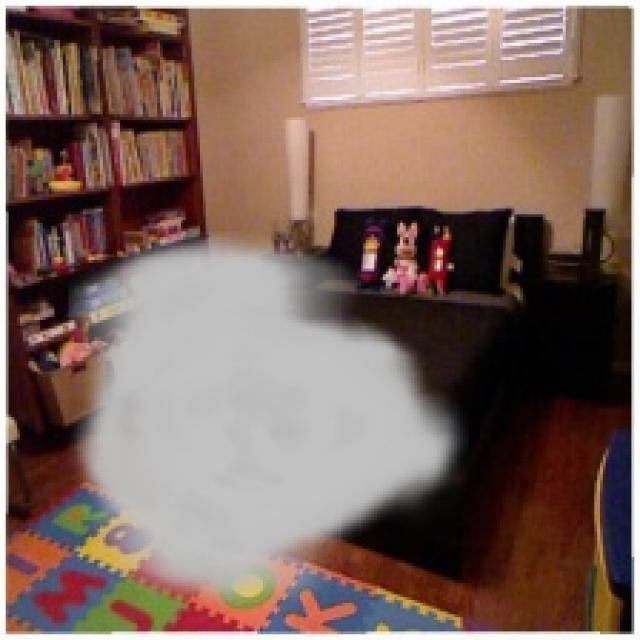smoke: (69, 232, 468, 614)
